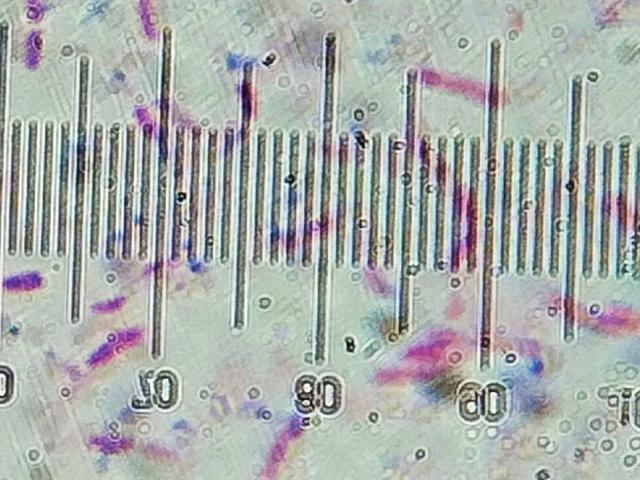E. coli: (91, 427, 185, 469), (422, 67, 506, 105), (258, 413, 294, 477), (89, 330, 150, 366), (25, 5, 50, 72), (405, 325, 451, 359), (573, 305, 624, 335), (0, 267, 45, 300), (131, 0, 168, 40), (372, 365, 425, 385), (361, 269, 392, 301), (93, 290, 132, 314), (473, 333, 514, 353)
